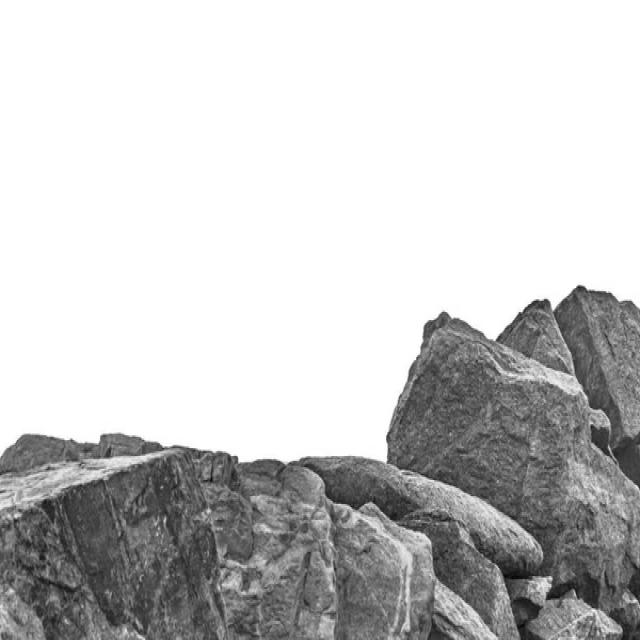Stone: (386, 315, 640, 615), (0, 451, 227, 640), (298, 458, 543, 578), (221, 461, 338, 640), (399, 520, 520, 640), (555, 286, 640, 455), (331, 504, 436, 640), (498, 299, 576, 375), (520, 590, 623, 640)
